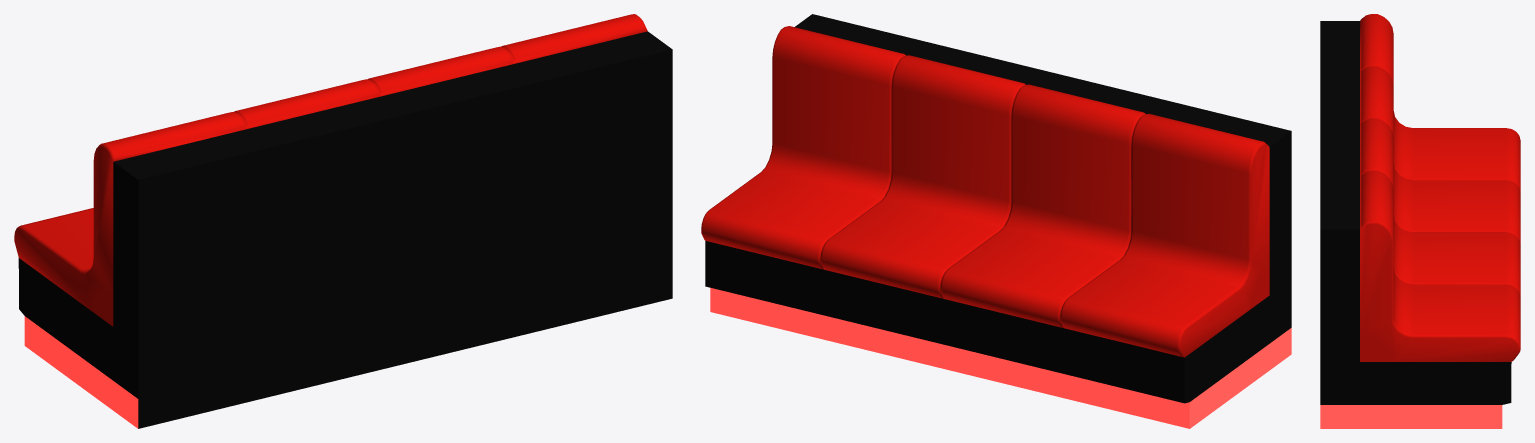
Rendered from flatbooth.fbx.
3 views of the same model, side by side, from view 1: azimuth 30°, elevation 25°; view 2: azimuth 150°, elevation 25°; view 3: azimuth 270°, elevation 25° (orthographic). The views are drawn at different scales.
Parts seen in each view (by area): view 1: Cube; view 2: Cube; view 3: Cube.
Part boxes in pixels (<box>): Cube: <box>14,14,672,428</box>; Cube: <box>701,14,1291,428</box>; Cube: <box>1320,14,1520,428</box>.
Bounding box in the file's own units: 800 × 370 × 325.
